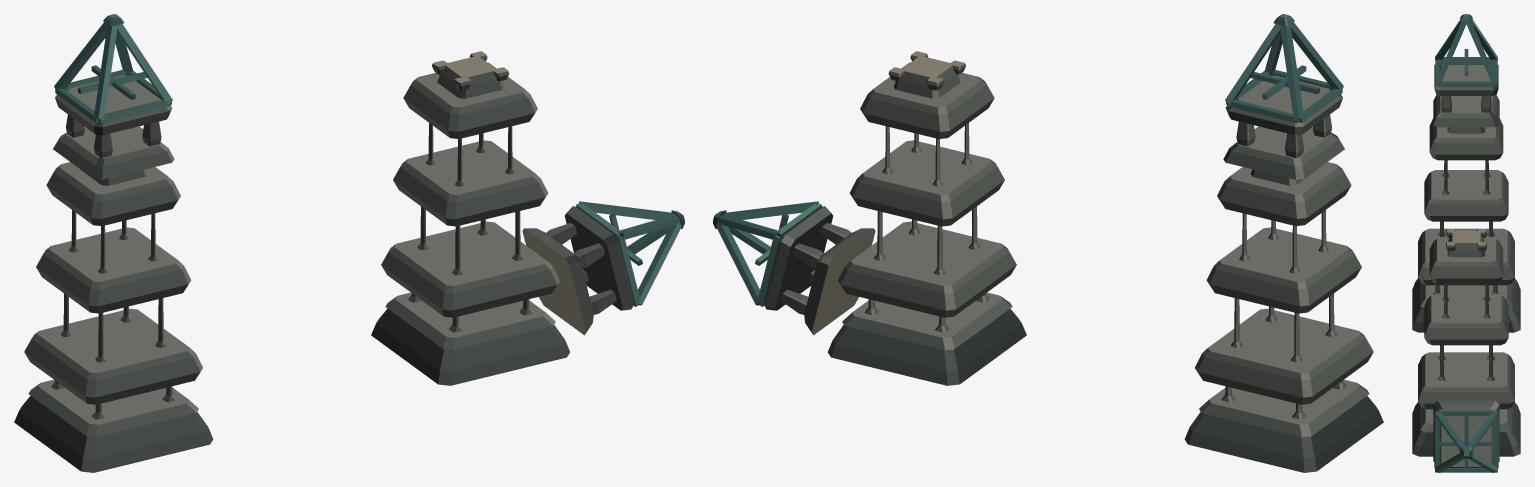
File: l05_broken_observatory_tower.glb
The picture shows the model from 3 angles, left to right: view 1: azimuth 30°, elevation 25°; view 2: azimuth 150°, elevation 25°; view 3: azimuth 270°, elevation 25°; orthographic projection. The views are drawn at different scales.
Parts seen in each view (by area): view 1: L05_Broken_Tier1_BroadMass, L05_Intact_Tier1_BroadMass, L05_Intact_Tier2_BroadMass, L05_Broken_Tier2_BroadMass, L05_Broken_FoundationMass, L05_Intact_FoundationMass, L05_Broken_Tier3_BroadMass, L05_Intact_Tier3_BroadMass, L05_Broken_BaseCap, L05_Intact_BaseCap, L05_ExactTop_CrownSeat, L05_FallenReuse_ExactTop_CrownSeat (+8 smaller); view 2: L05_Broken_Tier1_BroadMass, L05_Intact_Tier1_BroadMass, L05_Intact_Tier2_BroadMass, L05_Broken_Tier2_BroadMass, L05_Broken_FoundationMass, L05_Intact_FoundationMass, L05_Broken_Tier3_BroadMass, L05_Intact_Tier3_BroadMass, L05_Broken_BaseCap, L05_Intact_BaseCap, L05_ExactTop_CrownSeat, L05_FallenReuse_ExactTop_CrownSeat (+8 smaller); view 3: L05_Broken_Tier1_BroadMass, L05_Broken_Tier2_BroadMass, L05_Intact_Tier2_BroadMass, L05_Broken_Tier3_BroadMass, L05_Intact_Tier3_BroadMass, L05_FallenReuse_ExactTop_UpperCollar, L05_ExactTop_CrownSeat, L05_Intact_Tier1_BroadMass, L05_Broken_FoundationMass, L05_ExactTop_UpperCollar, L05_Intact_FoundationMass, L05_Intact_BaseCap (+31 smaller).
Boxes of the visible parts, x1=… form: L05_Broken_Tier1_BroadMass: x1=381, y1=221, x2=559, y2=317; L05_Intact_Tier1_BroadMass: x1=24, y1=308, x2=202, y2=404; L05_Intact_Tier2_BroadMass: x1=36, y1=227, x2=191, y2=313; L05_Broken_Tier2_BroadMass: x1=393, y1=140, x2=547, y2=226; L05_Broken_FoundationMass: x1=371, y1=308, x2=569, y2=385; L05_Intact_FoundationMass: x1=14, y1=395, x2=213, y2=472; L05_Broken_Tier3_BroadMass: x1=403, y1=62, x2=537, y2=138; L05_Intact_Tier3_BroadMass: x1=46, y1=162, x2=180, y2=225; L05_Broken_BaseCap: x1=385, y1=292, x2=555, y2=350; L05_Intact_BaseCap: x1=28, y1=379, x2=198, y2=437; L05_ExactTop_CrownSeat: x1=53, y1=126, x2=174, y2=179; L05_FallenReuse_ExactTop_CrownSeat: x1=522, y1=228, x2=593, y2=335; L05_Broken_Tier1_BroadMass: x1=838, y1=221, x2=1016, y2=317; L05_Intact_Tier1_BroadMass: x1=1195, y1=308, x2=1373, y2=404; L05_Intact_Tier2_BroadMass: x1=1206, y1=227, x2=1361, y2=313; L05_Broken_Tier2_BroadMass: x1=850, y1=140, x2=1004, y2=226; L05_Broken_FoundationMass: x1=828, y1=308, x2=1026, y2=385; L05_Intact_FoundationMass: x1=1184, y1=395, x2=1383, y2=472; L05_Broken_Tier3_BroadMass: x1=860, y1=62, x2=994, y2=138; L05_Intact_Tier3_BroadMass: x1=1217, y1=162, x2=1351, y2=225; L05_Broken_BaseCap: x1=842, y1=292, x2=1012, y2=350; L05_Intact_BaseCap: x1=1199, y1=379, x2=1369, y2=437; L05_ExactTop_CrownSeat: x1=1223, y1=126, x2=1344, y2=179; L05_FallenReuse_ExactTop_CrownSeat: x1=804, y1=228, x2=875, y2=335; L05_Broken_Tier1_BroadMass: x1=1418, y1=352, x2=1514, y2=409; L05_Broken_Tier2_BroadMass: x1=1424, y1=293, x2=1508, y2=345; L05_Intact_Tier2_BroadMass: x1=1424, y1=170, x2=1508, y2=221; L05_Broken_Tier3_BroadMass: x1=1429, y1=237, x2=1503, y2=283; L05_Intact_Tier3_BroadMass: x1=1429, y1=118, x2=1503, y2=160; L05_FallenReuse_ExactTop_UpperCollar: x1=1434, y1=409, x2=1498, y2=468; L05_ExactTop_CrownSeat: x1=1433, y1=94, x2=1499, y2=127; L05_Intact_Tier1_BroadMass: x1=1418, y1=228, x2=1514, y2=285; L05_Broken_FoundationMass: x1=1412, y1=402, x2=1520, y2=456; L05_ExactTop_UpperCollar: x1=1434, y1=64, x2=1498, y2=95; L05_Intact_FoundationMass: x1=1412, y1=278, x2=1520, y2=332; L05_Intact_BaseCap: x1=1420, y1=282, x2=1512, y2=307.
Size of the model in its own units: 14.43 by 9 by 3.
